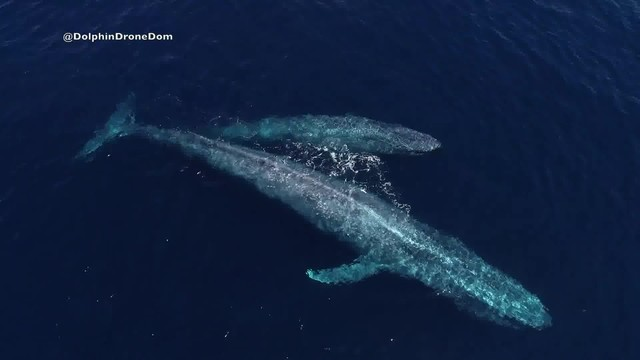whale: (71, 88, 556, 339), (147, 109, 446, 163)
